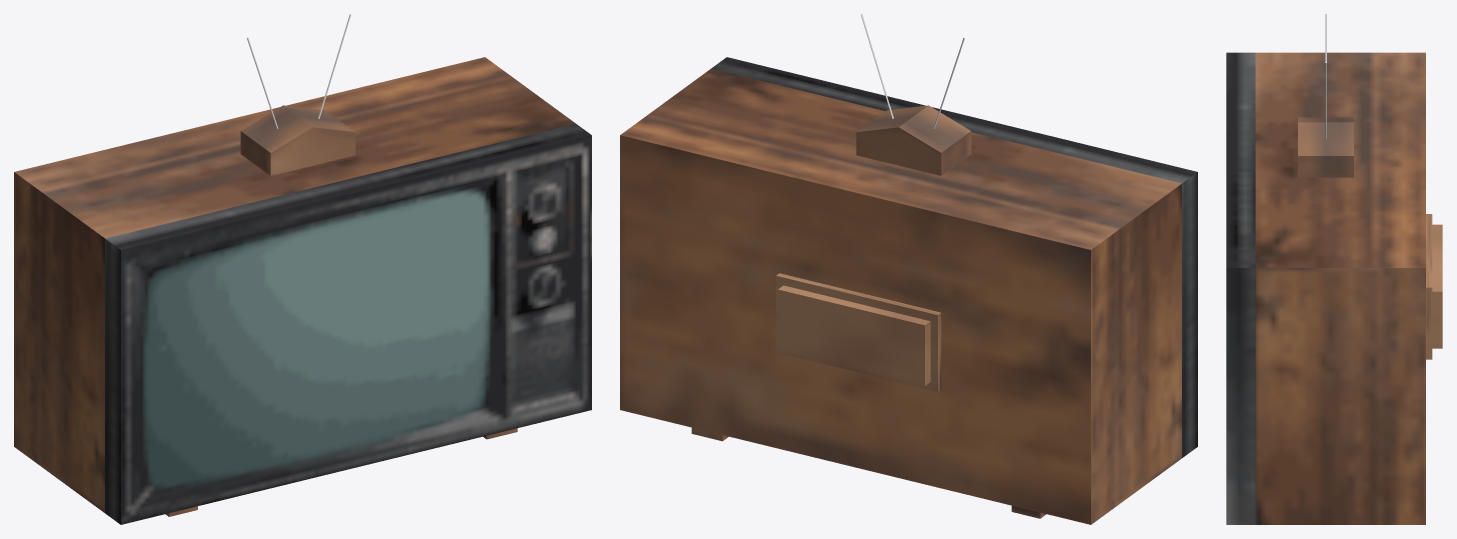
The model's file is sf_crt_tv.glb.
3 views of the same model, side by side, from view 1: azimuth 30°, elevation 25°; view 2: azimuth 150°, elevation 25°; view 3: azimuth 270°, elevation 25° (orthographic). The views are drawn at different scales.
Parts seen in each view (by area): view 1: Cube; view 2: Cube; view 3: Cube.
Part boxes in pixels (bbox=[...]): Cube: bbox=[14, 14, 591, 524]; Cube: bbox=[620, 14, 1197, 524]; Cube: bbox=[1226, 14, 1442, 524].
Size of the model in its own units: 0.54 by 0.4642 by 0.2299.
1 material, 1 textured.
